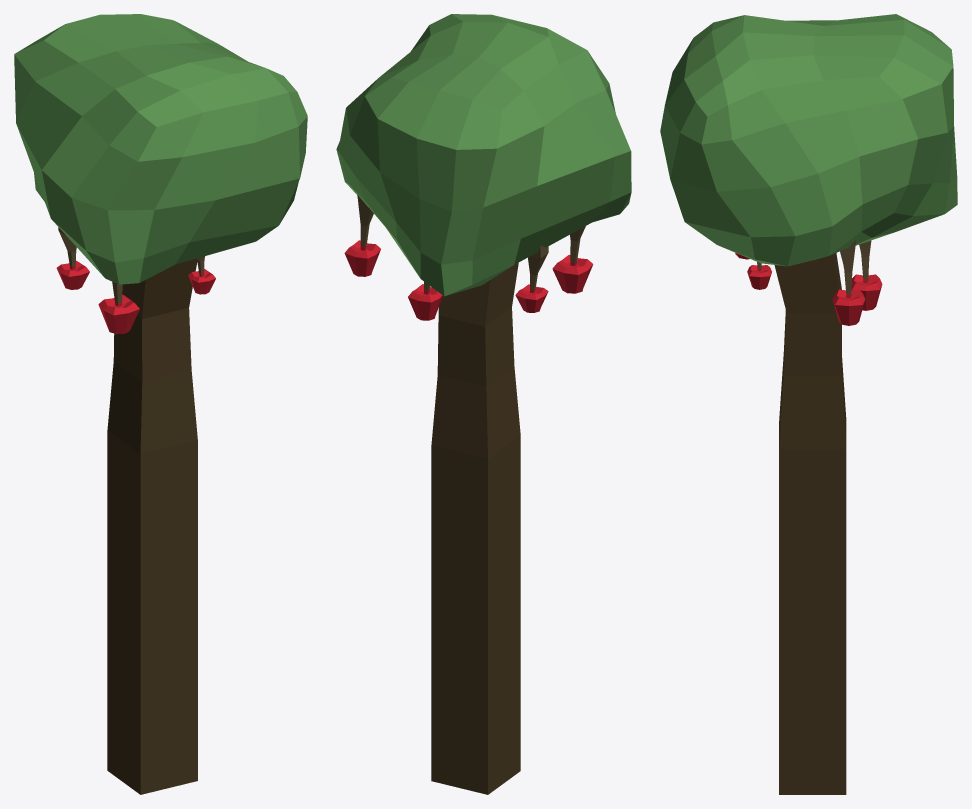
Rendered from FruitTree.glb.
3 renders of one model, left to right at view 1: azimuth 30°, elevation 25°; view 2: azimuth 150°, elevation 25°; view 3: azimuth 270°, elevation 25°, orthographic. The views are drawn at different scales.
Visible parts, largest first — view 1: FruitTree; view 2: FruitTree; view 3: FruitTree.
Boxes of the visible parts, x1,y1,x2,y2 form: FruitTree: (14,14,307,794); FruitTree: (336,14,631,794); FruitTree: (660,14,957,794).
Bounding box in the file's own units: 0.7459 × 2.03 × 0.729.
Materials: 1 (1 with a texture image).
